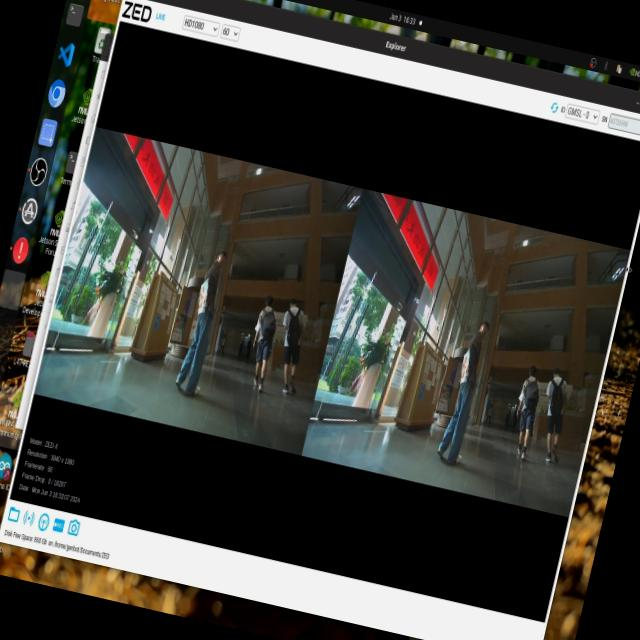red: (192, 279, 214, 319), (455, 352, 477, 389)
